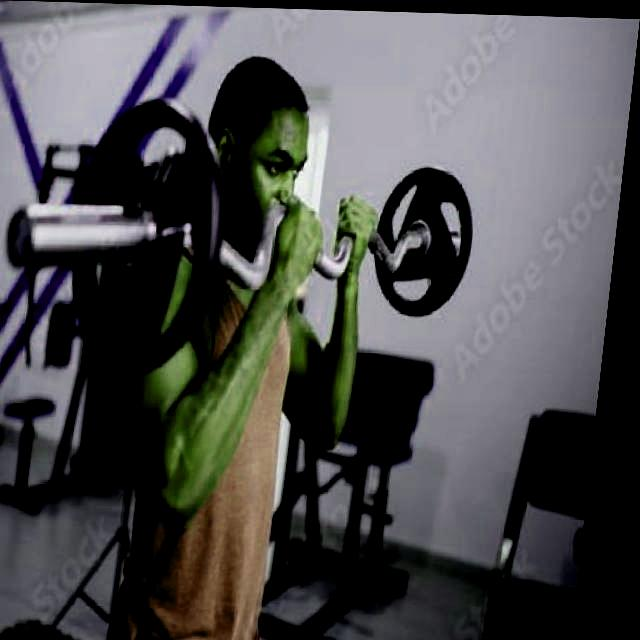barbell: (1, 93, 242, 382)
